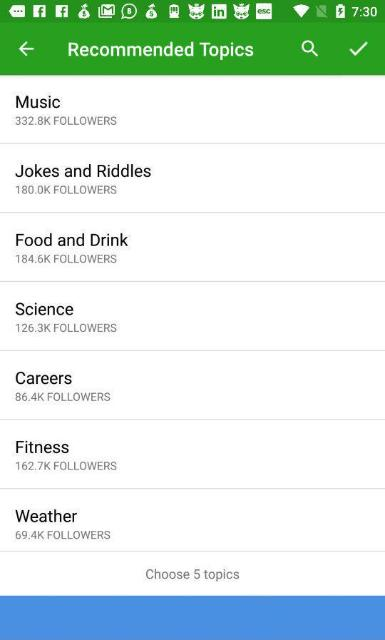Icon: (348, 42, 368, 56), (301, 40, 318, 56), (18, 42, 34, 56)
List: (0, 75, 385, 550)
Text: (68, 41, 253, 60), (15, 164, 151, 178), (16, 233, 128, 247), (146, 567, 239, 581), (16, 460, 116, 470), (16, 323, 116, 332), (16, 184, 116, 193), (16, 116, 116, 125), (15, 508, 77, 522), (16, 392, 110, 401), (15, 301, 73, 315), (16, 254, 116, 262), (16, 370, 72, 384), (16, 530, 110, 538), (16, 440, 68, 452), (17, 95, 61, 108)
Toolbar: (0, 23, 384, 75)
UpperTaskBar: (0, 0, 384, 22)
